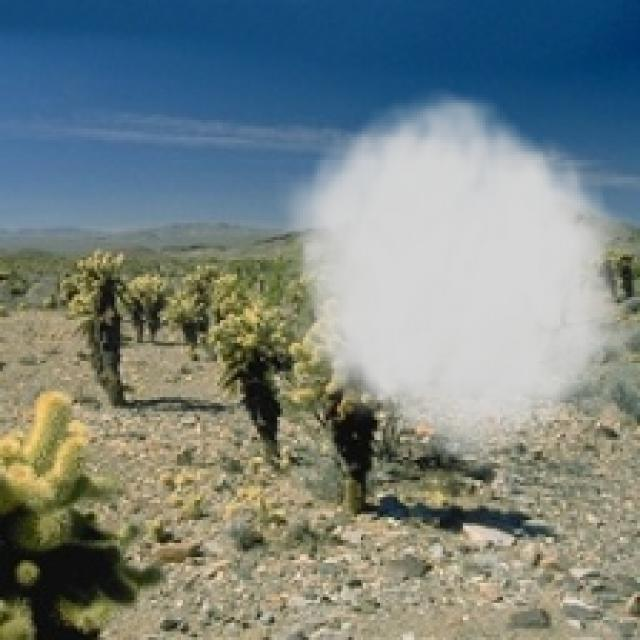smoke: (272, 77, 632, 477)
